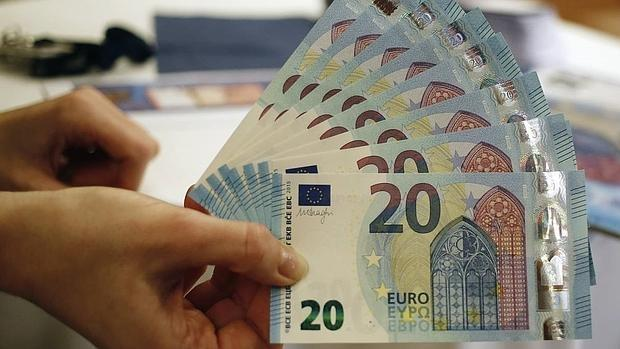billete: (188, 1, 598, 343)
